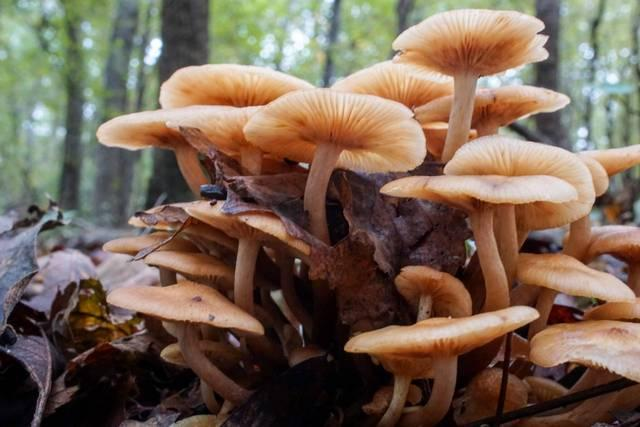edible_mushroom: (95, 7, 639, 426)
